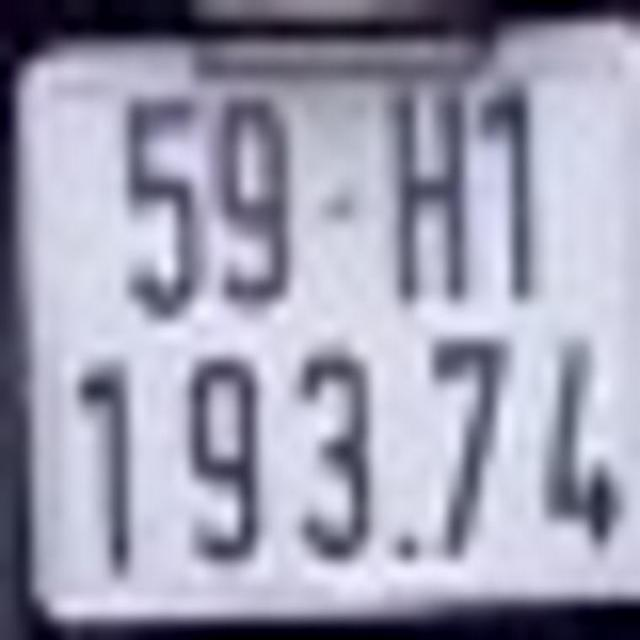1: (479, 83, 533, 303), (78, 362, 130, 572)
3: (299, 348, 373, 564)
4: (541, 335, 623, 540)
5: (124, 96, 200, 319)
7: (428, 338, 503, 557)
9: (216, 95, 292, 305), (187, 355, 257, 559)
H: (391, 88, 469, 307)
